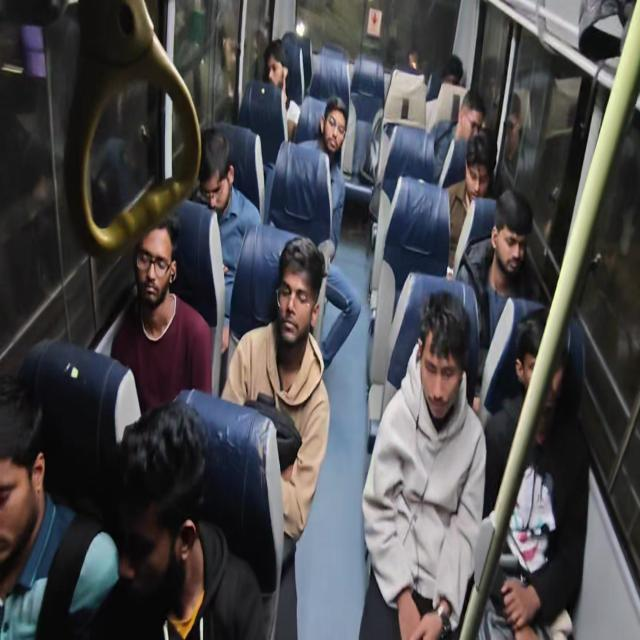person: (358, 290, 487, 638), (220, 235, 331, 638), (97, 400, 269, 639), (474, 308, 590, 638), (0, 375, 120, 639), (110, 217, 212, 415), (262, 39, 348, 256), (296, 95, 361, 368), (194, 126, 262, 352), (476, 188, 543, 350), (297, 95, 348, 258), (445, 128, 496, 277), (436, 89, 486, 186), (262, 39, 300, 142), (212, 14, 240, 123), (501, 91, 524, 178), (453, 89, 485, 142)
